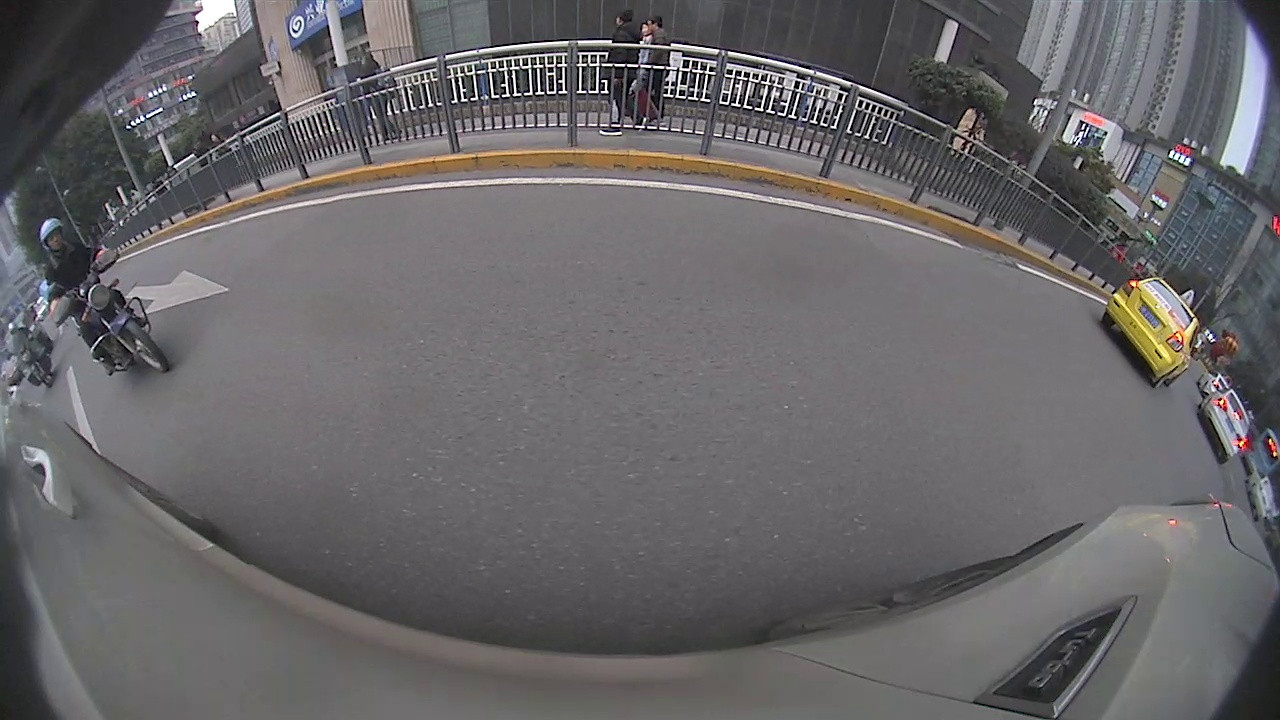car: (1101, 275, 1201, 390), (1196, 385, 1253, 464)
front: (117, 314, 173, 373)
rider: (39, 216, 171, 374)
